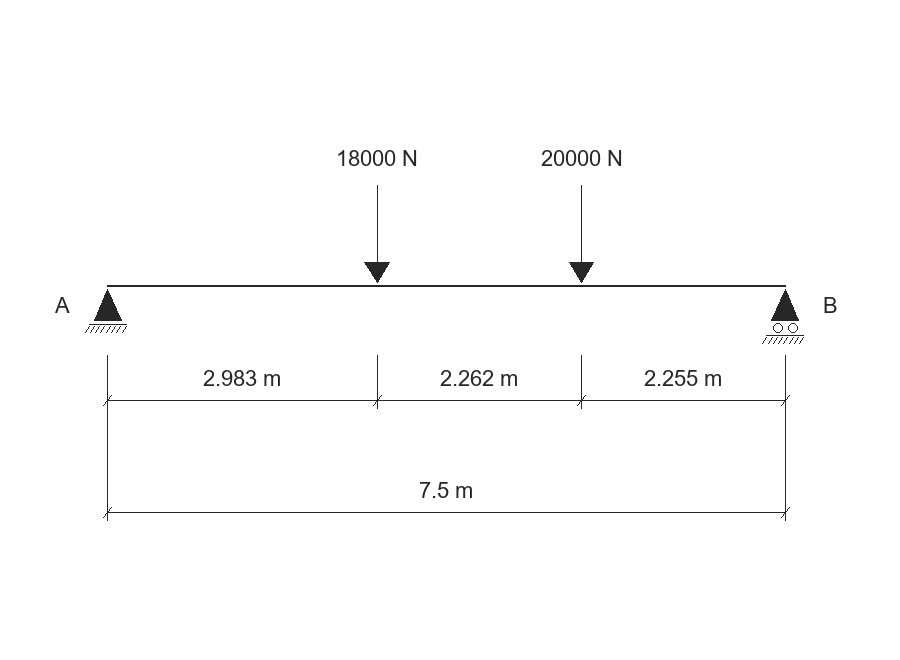pin_support: (85, 289, 127, 333)
point_load: (364, 185, 390, 283), (569, 185, 594, 283)
roller_support: (762, 289, 804, 344)
